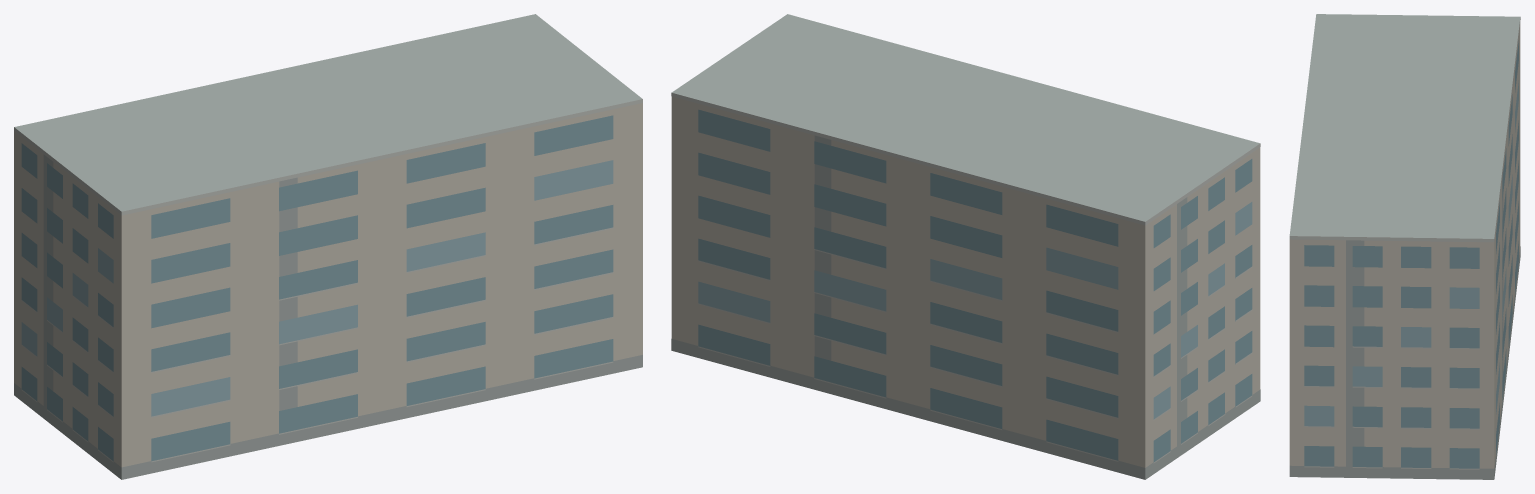
The model's file is survey-upis-32745951.glb.
3 views of the same model, side by side, from view 1: azimuth 30°, elevation 25°; view 2: azimuth 150°, elevation 25°; view 3: azimuth 270°, elevation 25° (orthographic). The views are drawn at different scales.
Parts seen in each view (by area): view 1: survey-upis-32745951.tmp; view 2: survey-upis-32745951.tmp; view 3: survey-upis-32745951.tmp.
Boxes of the visible parts, x1,y1,x2,y2 form: survey-upis-32745951.tmp: (14, 14, 642, 479); survey-upis-32745951.tmp: (671, 14, 1260, 479); survey-upis-32745951.tmp: (1289, 14, 1520, 479).
Size of the model in its own units: 34.25 by 17.1 by 14.86.
